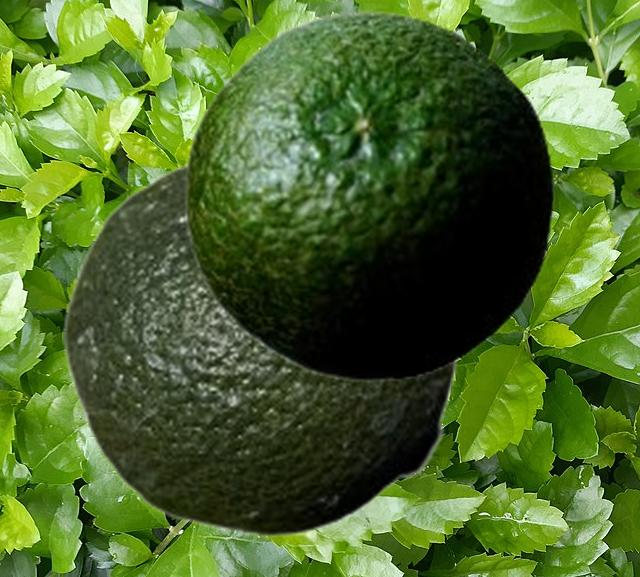calamansi: (62, 158, 457, 536), (183, 9, 553, 382)
